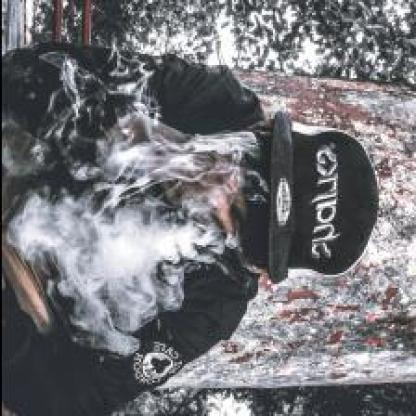Smoke: (2, 133, 226, 347)
